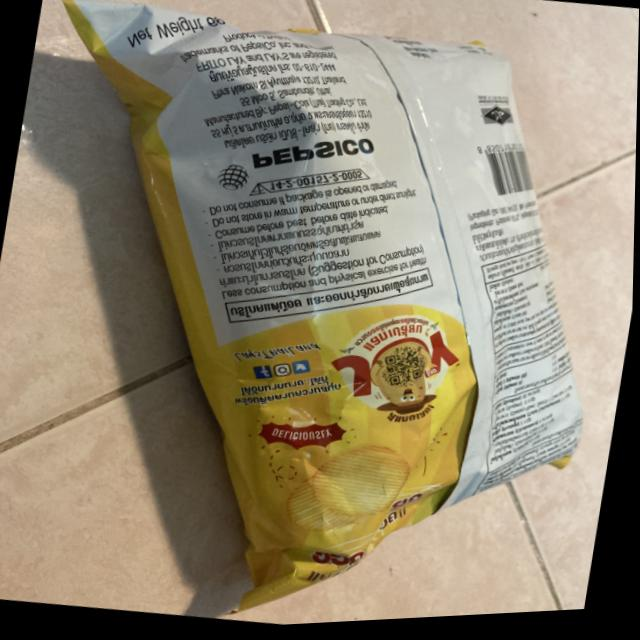LayYellow: (34, 0, 640, 632)
